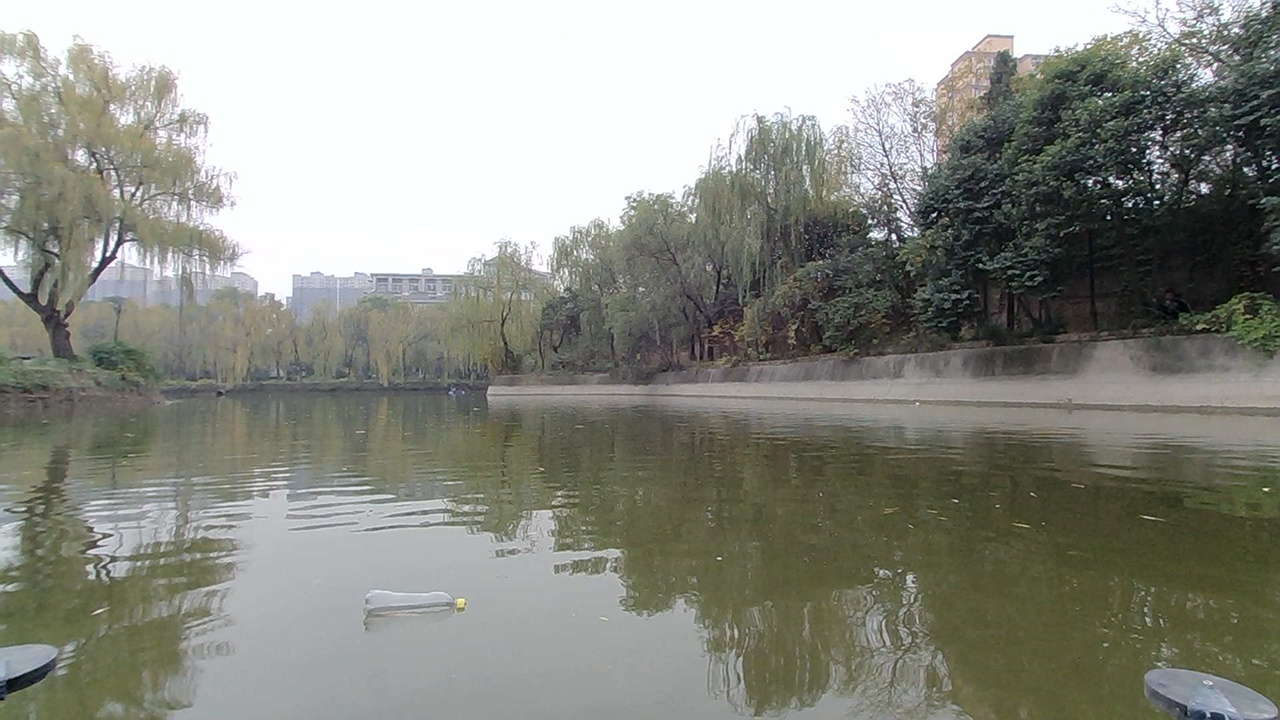bottle: (350, 582, 473, 643)
